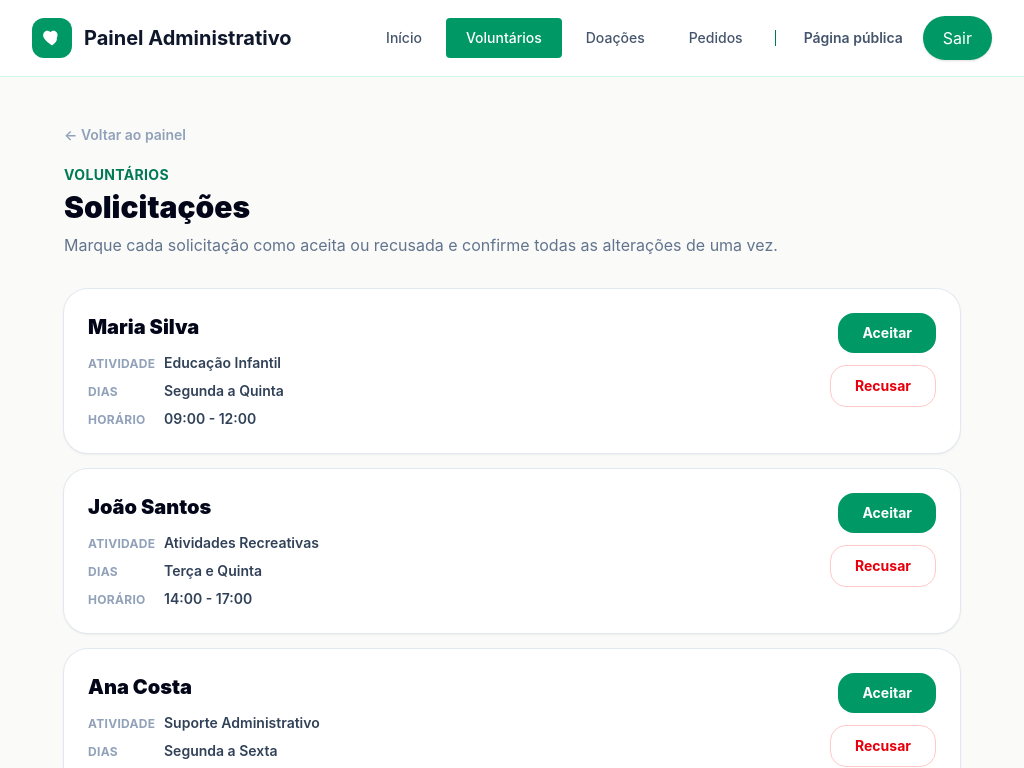
Test case: SolicitacoesVoluntariosPage › Aceitar solicitação › altera o texto do botão para "✓ Aceitar" ao clicar
Click the button "Aceitar" in the row of "Maria Silva" at {"x": 887, "y": 333}, box [838,313,936,353]
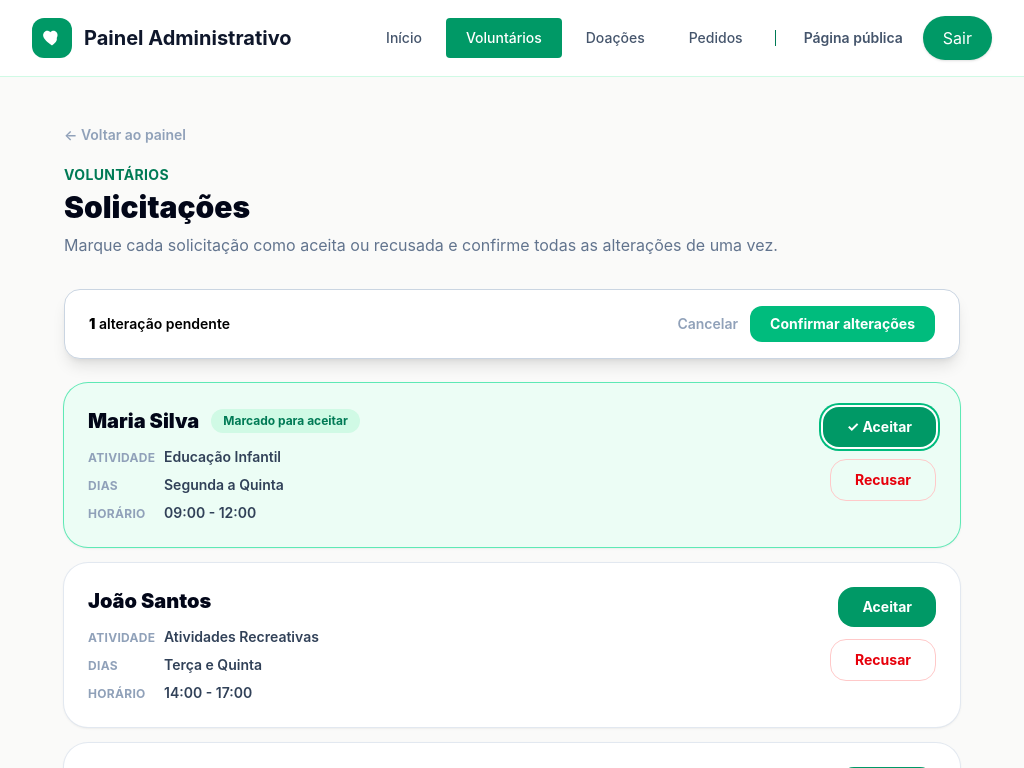
Expected: the button "✓ Aceitar" is shown, [823,407,936,447]
